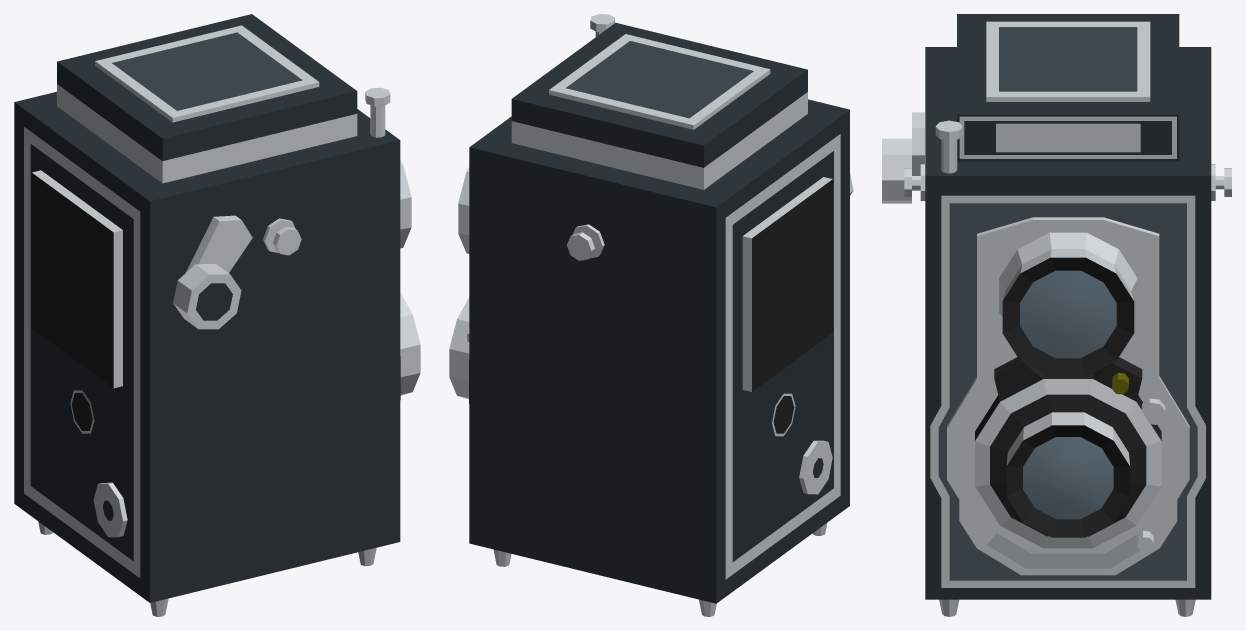
The model's file is Photo_camera_retro_50s.glb.
3 views of the same model, side by side, from view 1: azimuth 30°, elevation 25°; view 2: azimuth 150°, elevation 25°; view 3: azimuth 270°, elevation 25° (orthographic). The views are drawn at different scales.
Parts seen in each view (by area): view 1: PhotoCamera_texture1_0; view 2: PhotoCamera_texture1_0; view 3: PhotoCamera_texture1_0.
Boxes of the visible parts, box(x1,y1,x2,y2) form: PhotoCamera_texture1_0: box(14, 14, 420, 616); PhotoCamera_texture1_0: box(449, 14, 853, 616); PhotoCamera_texture1_0: box(882, 14, 1231, 616).
Size of the model in its own units: 0.2153 by 0.3072 by 0.1942.
1 material, 1 textured.
